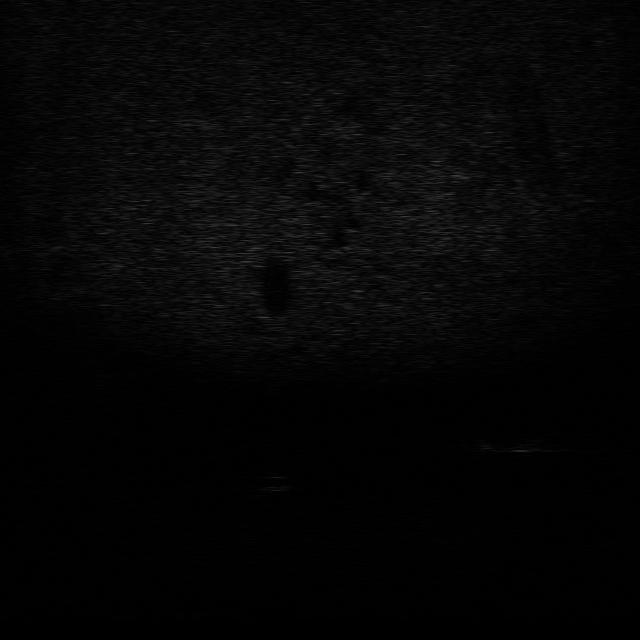ball: (255, 471, 297, 495)
human body: (457, 430, 575, 452)
